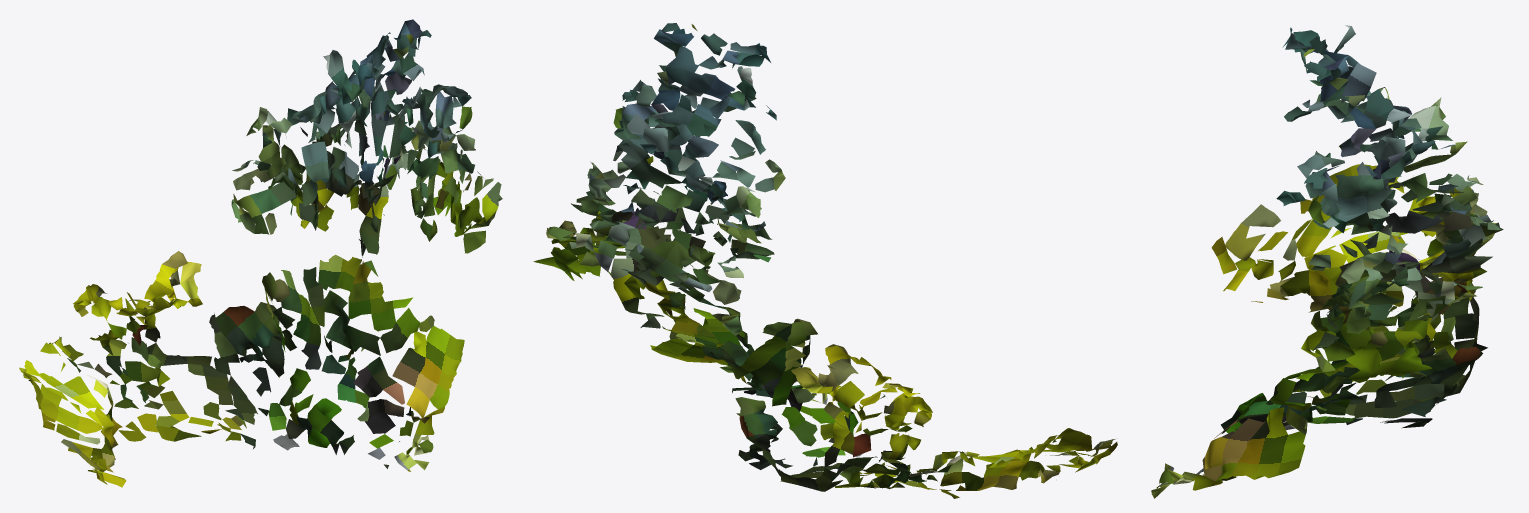
Rendered from test1_mid.obj.
3 views of the same model, side by side, from view 1: azimuth 30°, elevation 25°; view 2: azimuth 150°, elevation 25°; view 3: azimuth 270°, elevation 25° (orthographic). The views are drawn at different scales.
Bounding box in the file's own units: 99 × 78.77 × 51.85.
1 material, 1 textured.
